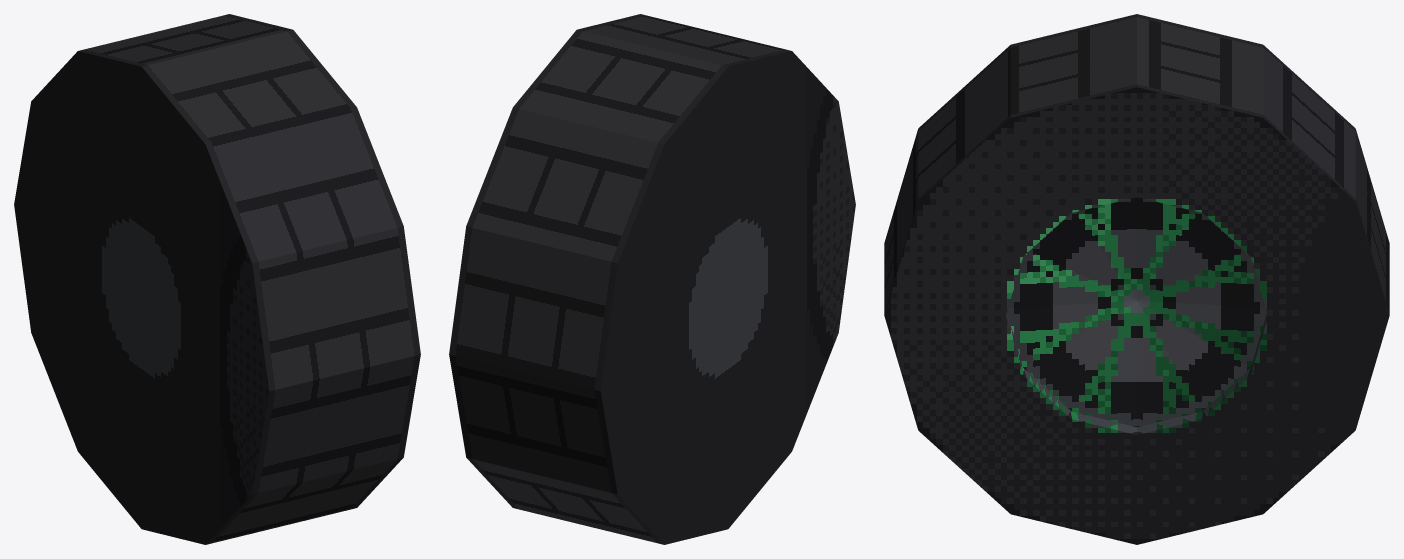
File: wheel_eight.glb
3 renders of one model, left to right at view 1: azimuth 30°, elevation 25°; view 2: azimuth 150°, elevation 25°; view 3: azimuth 270°, elevation 25°, orthographic.
Parts seen in each view (by area): view 1: wheel_eight; view 2: wheel_eight; view 3: wheel_eight.
Boxes of the visible parts, x1,y1,x2,y2 form: wheel_eight: [14, 14, 420, 544]; wheel_eight: [449, 14, 855, 544]; wheel_eight: [884, 14, 1389, 544].
Bounding box in the file's own units: 0.285 × 0.8308 × 0.8308.
1 material, 1 textured.
